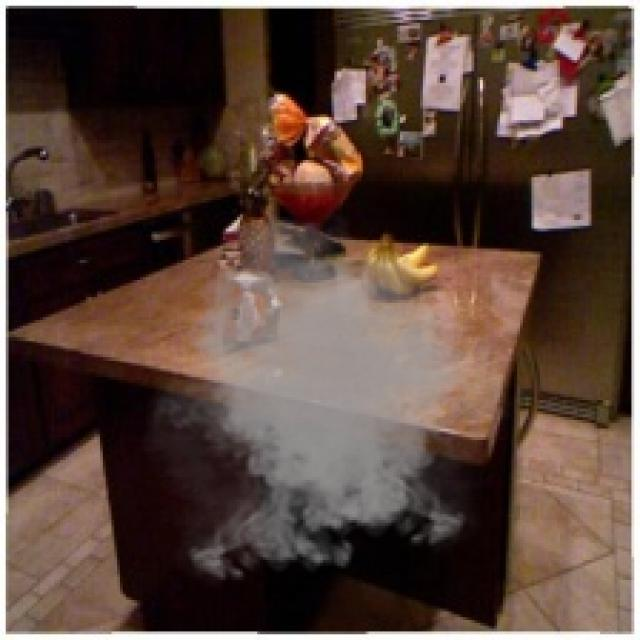smoke: (131, 212, 523, 592)
